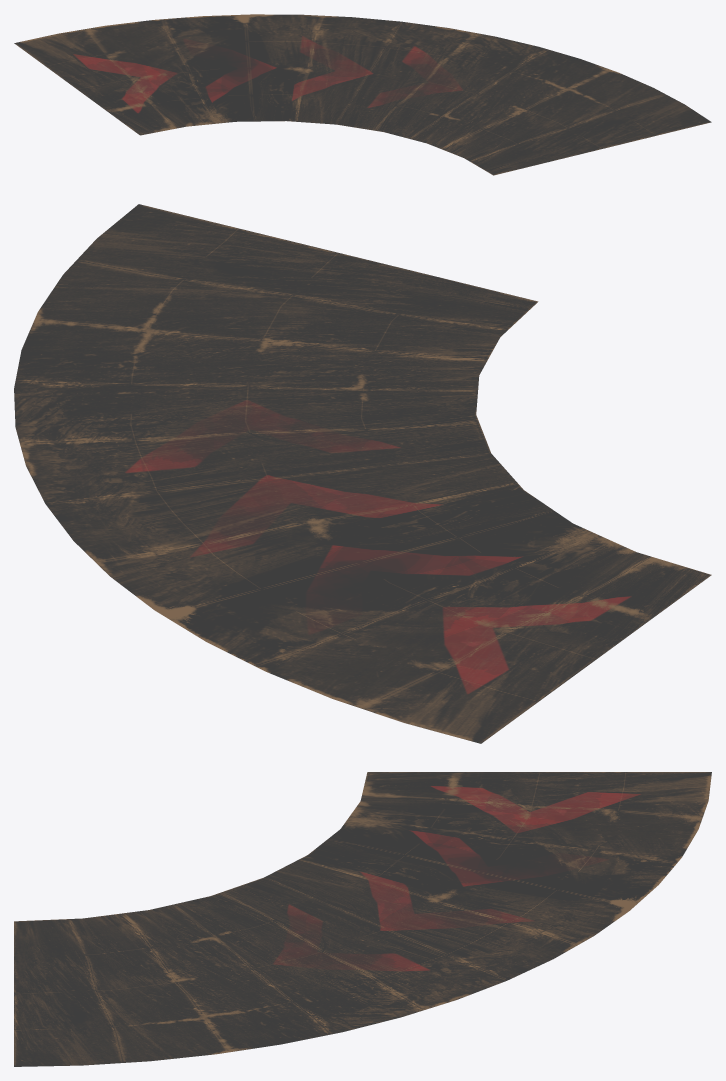
Rendered from Route_V_90x2.fbx.
3 views of the same model, one above another, from view 1: azimuth 30°, elevation 25°; view 2: azimuth 150°, elevation 25°; view 3: azimuth 270°, elevation 25° (orthographic). The views are drawn at different scales.
Visible parts, largest first — view 1: polySurface185; view 2: polySurface185; view 3: polySurface185.
Boxes of the visible parts, x1,y1,x2,y2 form: polySurface185: [14, 14, 711, 175]; polySurface185: [14, 204, 711, 743]; polySurface185: [14, 772, 711, 1066].
Size of the model in its own units: 25.36 by 3.84e-15 by 25.36.
